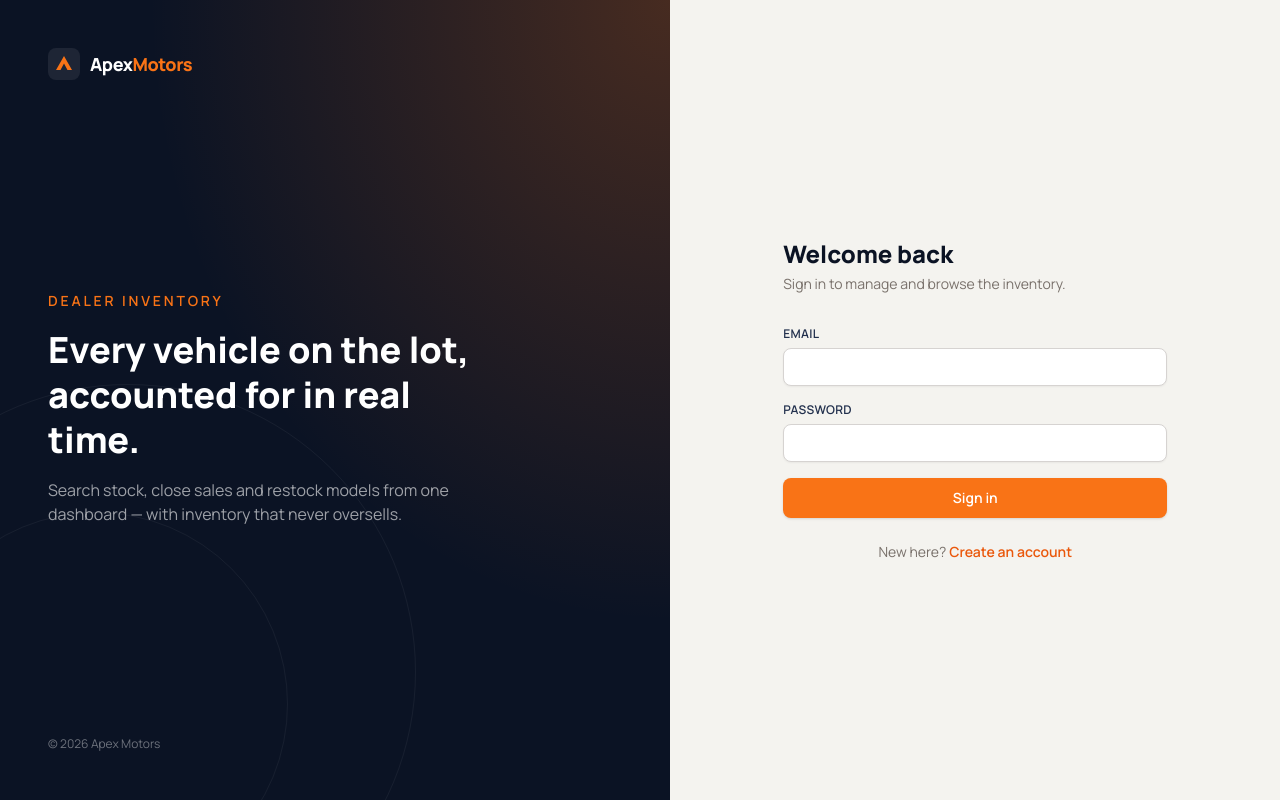
Test: Login › shows the server error for invalid credentials
Step 1. Type "casey@example.com" into the field labelled "Email" → (975,367), box [783,348,1167,386]
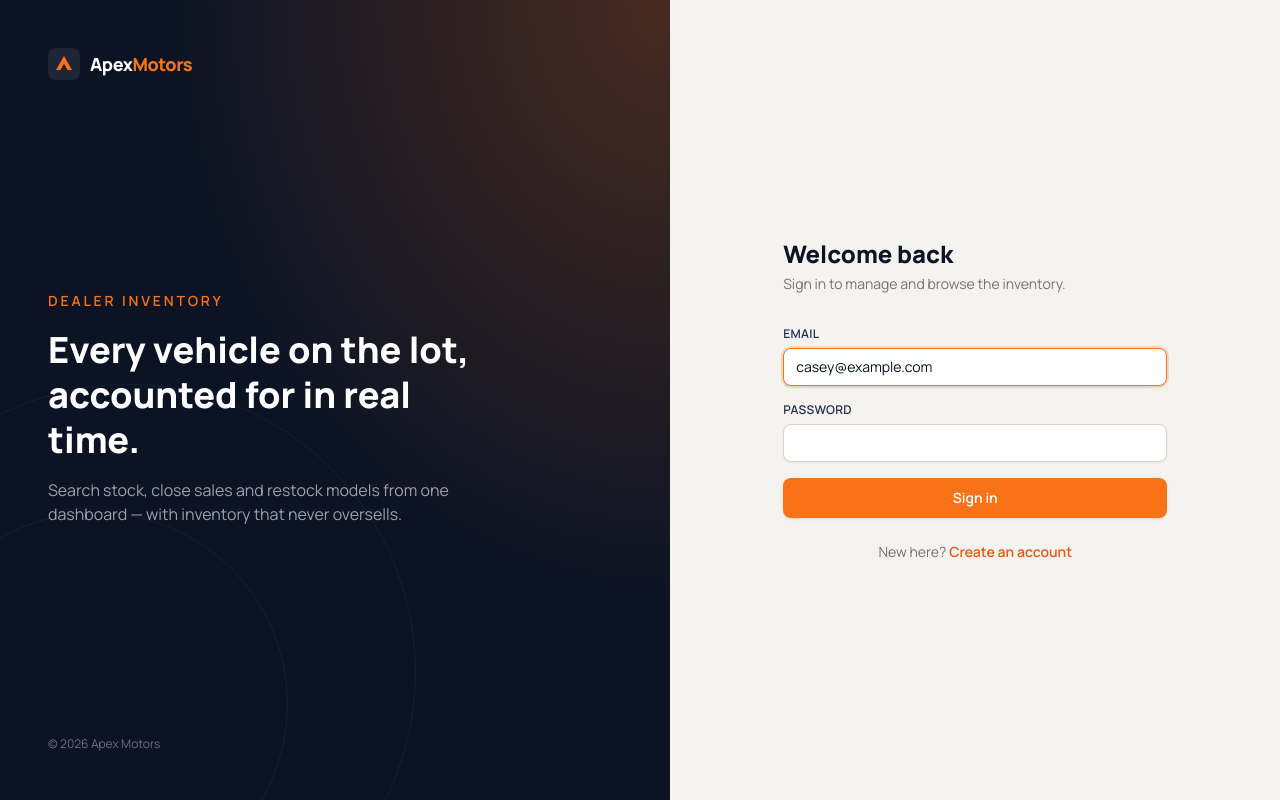
Step 2. Type "wrong" into the password field labelled "Password" → (975,443), box [783,424,1167,462]
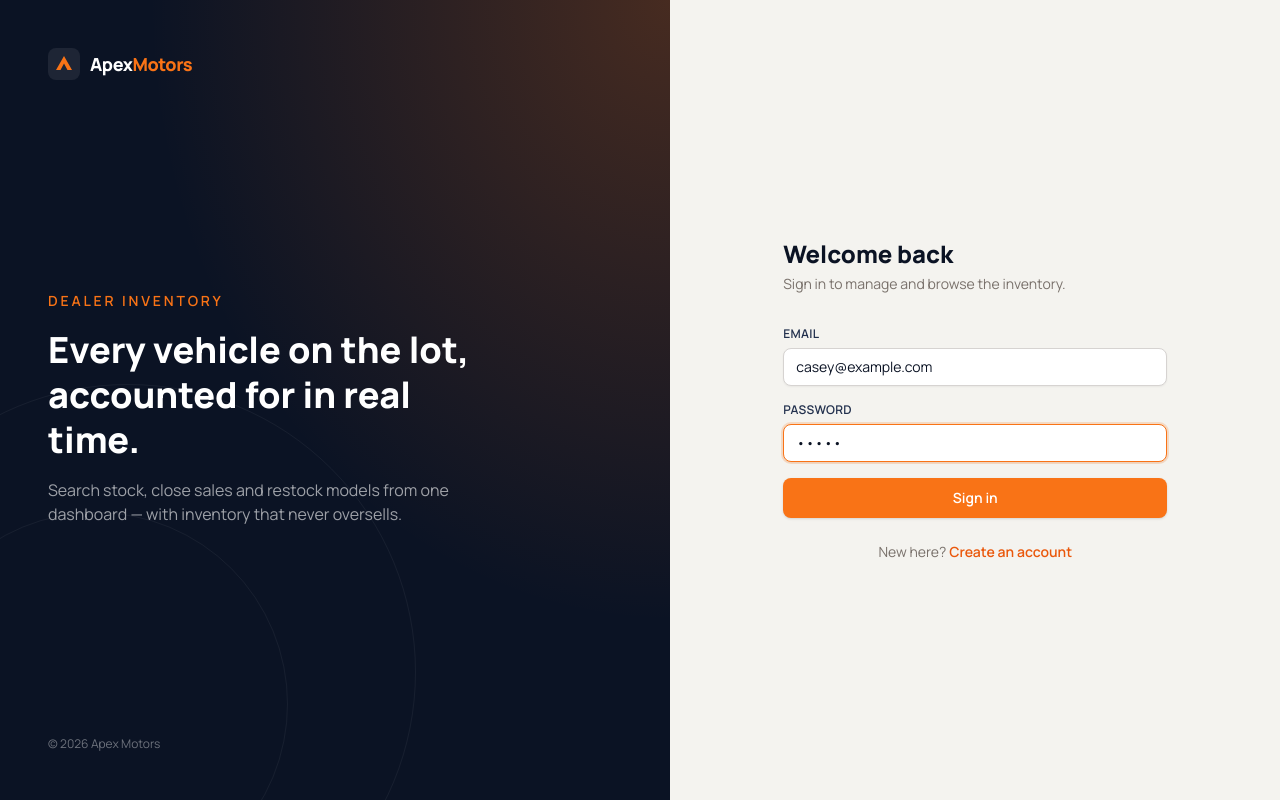
Step 3. Click the button "Sign in" → (975,498), box [783,478,1167,518]
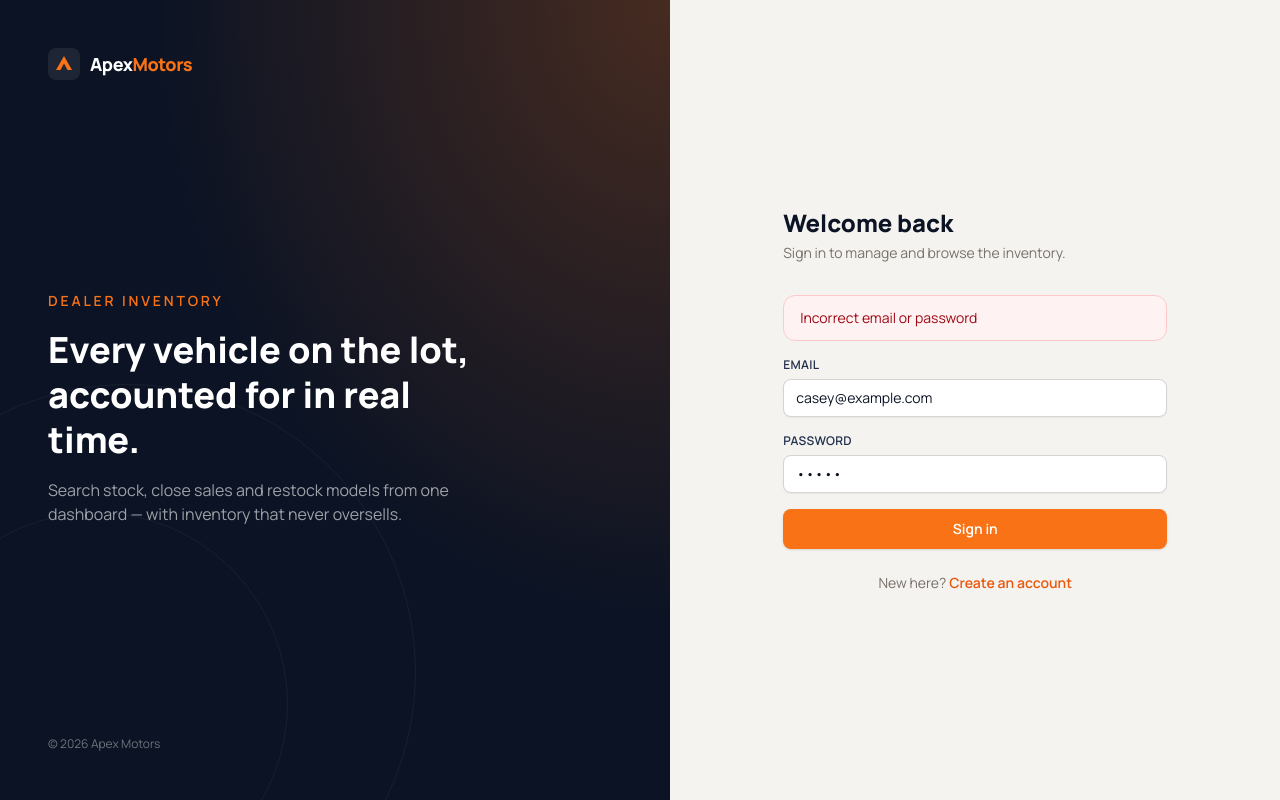
Result: the message reads "Incorrect email or password" at [800,308,977,327]
